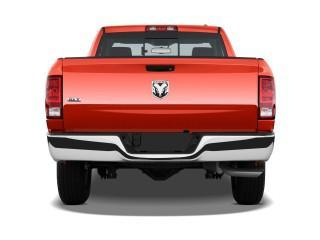ram: (149, 76, 174, 101)
